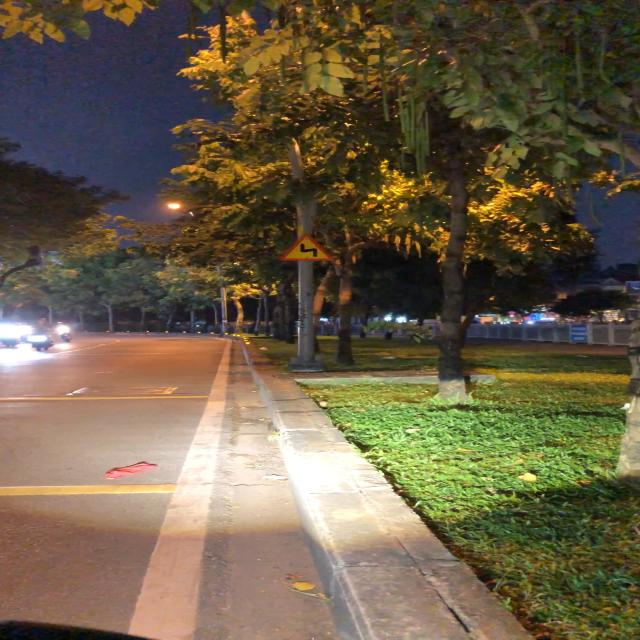Bien bao nhieu cho ngoat nguy hiem lien tiep: (276, 235, 336, 260)
